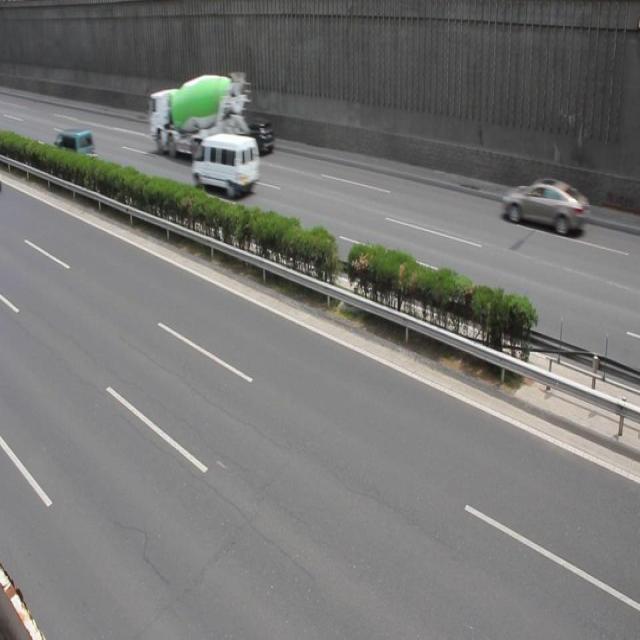bus: (149, 68, 250, 162)
car: (500, 174, 587, 236), (229, 119, 275, 158)
truck: (192, 130, 260, 196), (54, 128, 96, 171)
